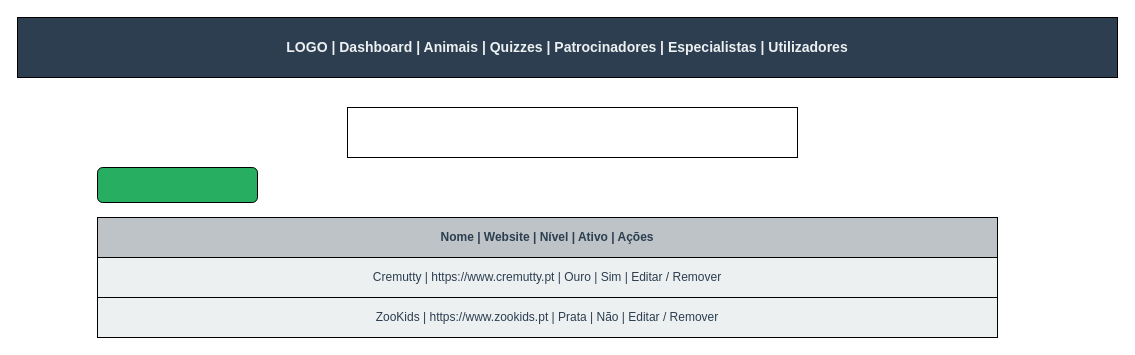
Some shapes in this 1135 by 355 pixel diagram are drawn without their labels. The centre of each missing label's shape, as x and y in pixels:
+ Novo registo: the point at 177,184
PATROCINADORES — Lista (Desktop): the point at 572,132
